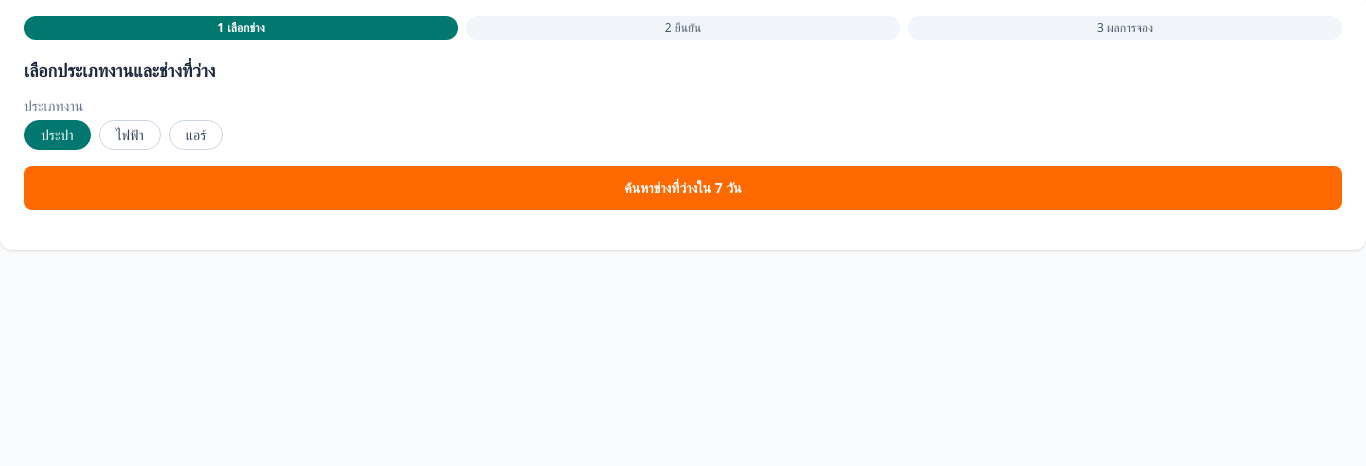
Test case: UI-07-01 ช่วงเวลาเพิ่งถูกผู้อื่นเลือกไป แจ้งให้เลือกใหม่ และไม่ไปหน้ายืนยัน
Click the button "ค้นหาช่างที่ว่างใน 7 วัน".
click(683, 188)  # box [24,166,1342,210]
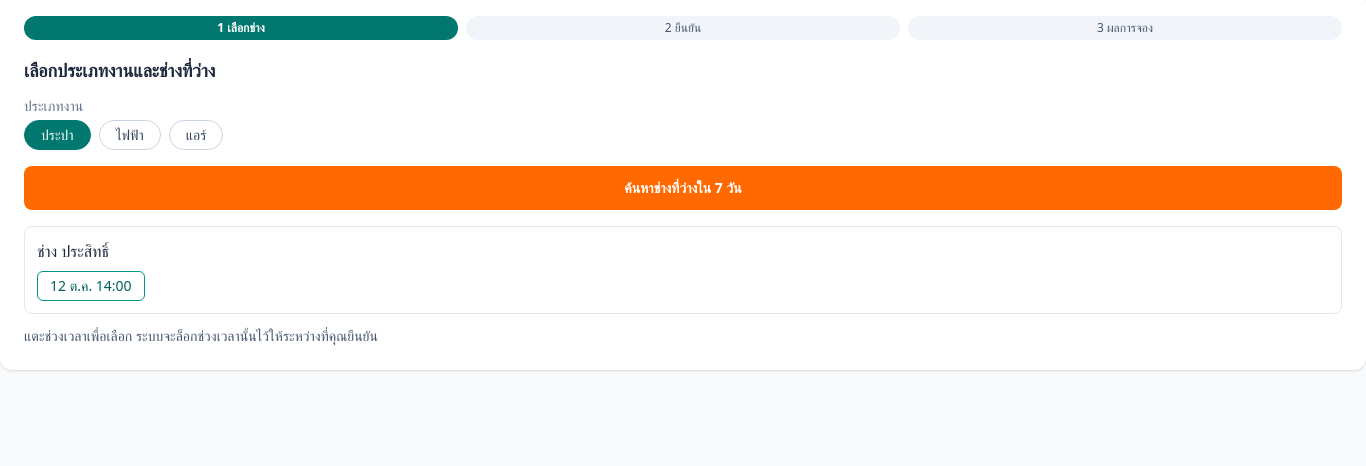
Check: the text "ช่าง ประสิทธิ์" is shown, box [37,240,109,262]
Click the button "12 ต.ค. 14:00".
click(91, 286)  # box [37,271,145,301]
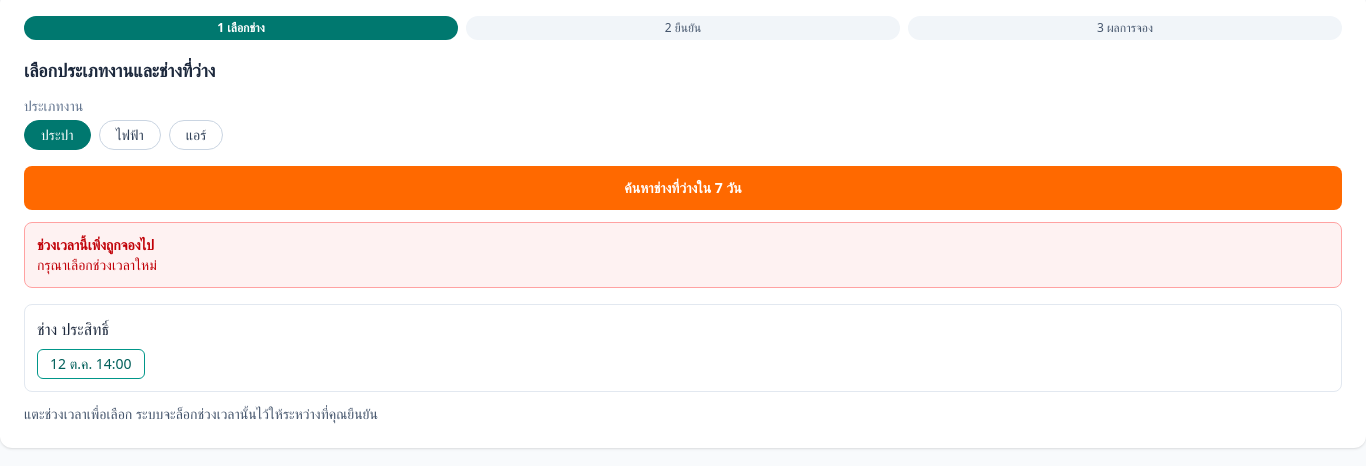
Check: the message shows "ช่วงเวลานี้เพิ่งถูกจองไป", box [37,235,154,254]
